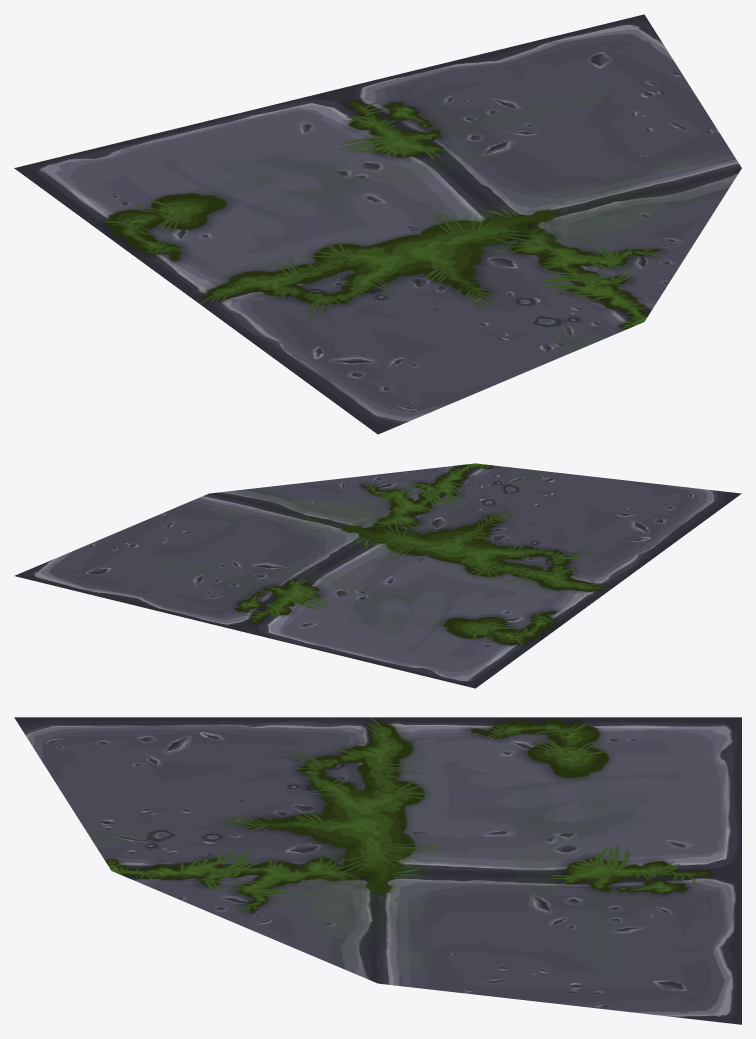
File: MOD_Floor_01_O_convex_tiny.fbx
3 renders of one model, top to bottom at view 1: azimuth 30°, elevation 25°; view 2: azimuth 150°, elevation 25°; view 3: azimuth 270°, elevation 25°, orthographic. The views are drawn at different scales.
Visible parts, largest first — view 1: MOD_Floor_01_O_convex_tiny; view 2: MOD_Floor_01_O_convex_tiny; view 3: MOD_Floor_01_O_convex_tiny.
Boxes of the visible parts, <box> form: MOD_Floor_01_O_convex_tiny: <box>14,14,741,434</box>; MOD_Floor_01_O_convex_tiny: <box>14,463,741,688</box>; MOD_Floor_01_O_convex_tiny: <box>14,717,741,1024</box>.
Size of the model in its own units: 200 by 0 by 200.
